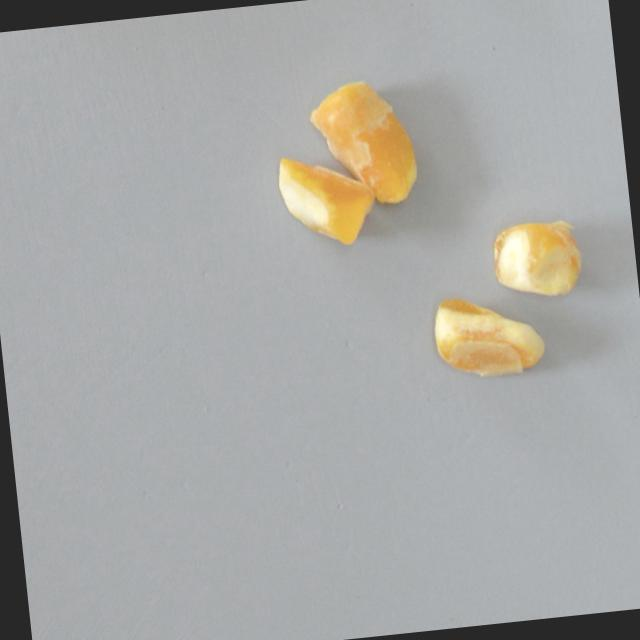dañado: (303, 64, 424, 217), (427, 284, 552, 385), (275, 145, 380, 252), (485, 211, 590, 304)
